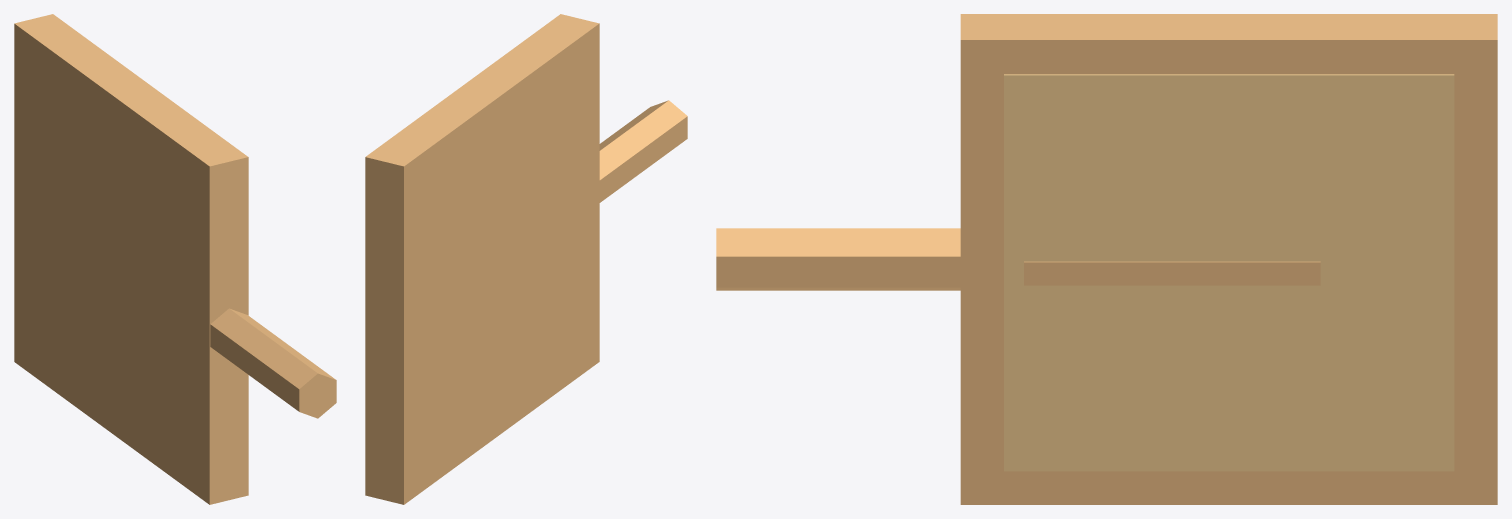
The model's file is beelevelsign.fbx.
3 views of the same model, side by side, from view 1: azimuth 30°, elevation 25°; view 2: azimuth 150°, elevation 25°; view 3: azimuth 270°, elevation 25° (orthographic). The views are drawn at different scales.
Visible parts, largest first — view 1: Sign; view 2: Sign; view 3: Sign.
Part boxes in pixels (x1,y1,x2,y2): Sign: (14, 14, 336, 504); Sign: (365, 14, 687, 504); Sign: (716, 14, 1497, 504).
Size of the model in its own units: 17.8 by 141 by 214.
